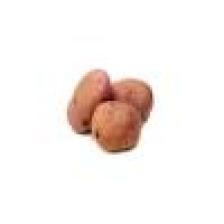Diseased-fungal potato: (65, 68, 115, 136), (90, 100, 145, 154), (104, 77, 155, 128)
